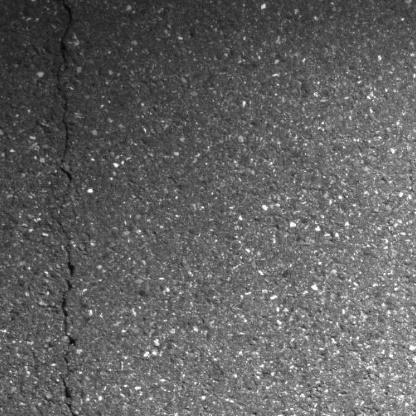Cracks: (53, 209, 82, 416), (51, 0, 80, 200)
